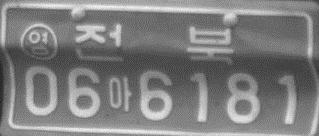0: (23, 65, 59, 117)
1: (271, 74, 305, 124), (182, 71, 215, 122)
6: (138, 68, 173, 121), (66, 67, 101, 118)
8: (225, 71, 260, 125)
아: (107, 75, 132, 112)
영: (21, 23, 59, 62)
전북_D: (74, 23, 236, 64)
